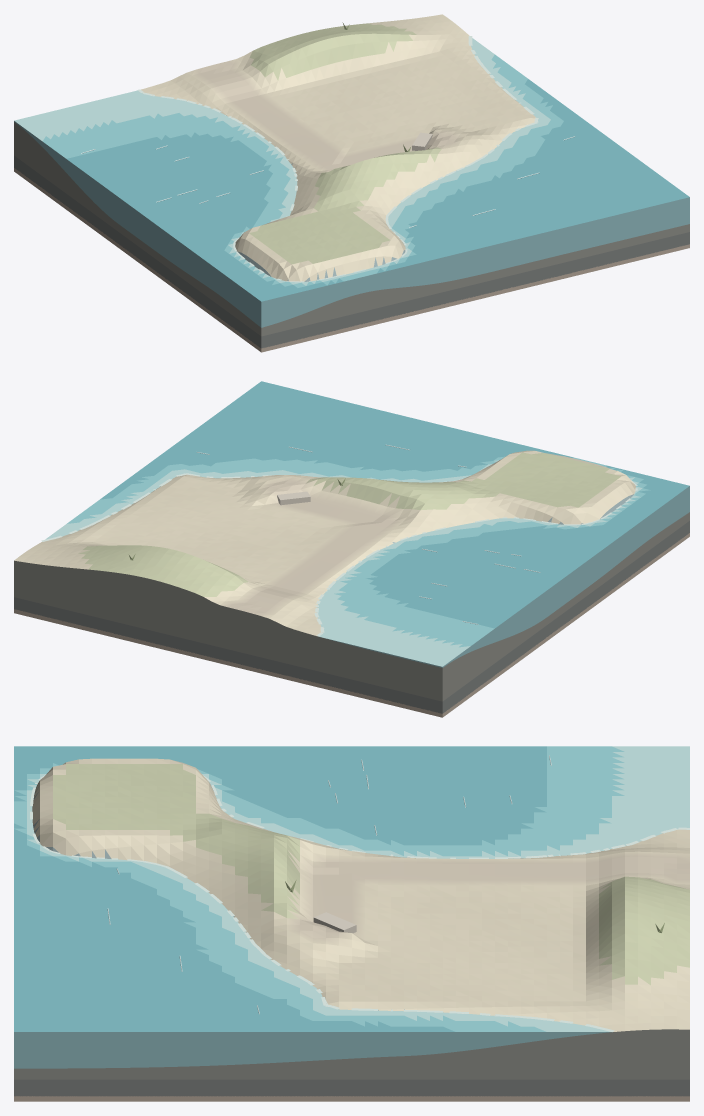
File: J467_proc.glb
The picture shows the model from 3 angles, top to bottom: view 1: azimuth 30°, elevation 25°; view 2: azimuth 150°, elevation 25°; view 3: azimuth 270°, elevation 25°; orthographic projection. The views are drawn at different scales.
Parts seen in each view (by area): view 1: proc_water, proc_ground, proc_skirt, proc_water_side, proc_foam; view 2: proc_water, proc_ground, proc_skirt, proc_water_side, proc_foam; view 3: proc_water, proc_ground, proc_skirt, proc_water_side, proc_foam.
Part boxes in pixels (<box>): proc_water: <box>14,38,689,301</box>; proc_ground: <box>141,14,535,281</box>; proc_skirt: <box>14,122,689,352</box>; proc_water_side: <box>14,121,689,327</box>; proc_foam: <box>137,36,538,282</box>; proc_water: <box>45,381,689,666</box>; proc_ground: <box>14,450,635,636</box>; proc_skirt: <box>14,512,689,717</box>; proc_water_side: <box>324,486,689,667</box>; proc_foam: <box>41,473,637,636</box>; proc_water: <box>14,746,689,1031</box>; proc_ground: <box>32,758,689,1031</box>; proc_skirt: <box>14,1029,689,1101</box>; proc_water_side: <box>14,1032,611,1068</box>; proc_foam: <box>30,774,689,1031</box>.
Bounding box in the file's own units: 8.02 × 1.41 × 8.
